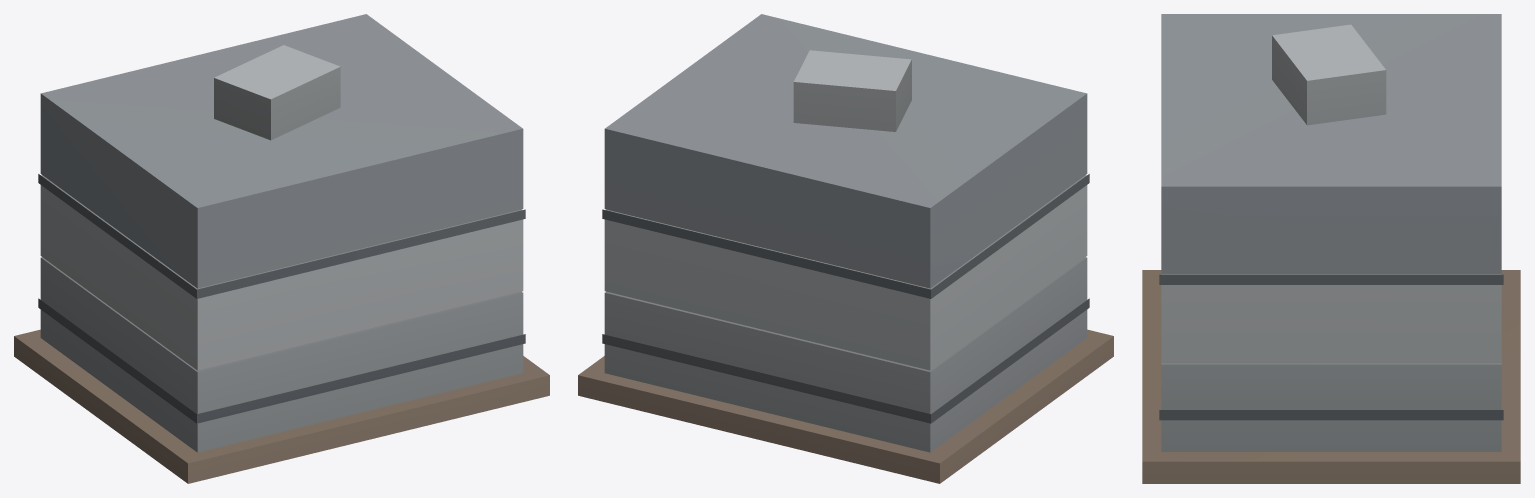
File: pallet.lod2.glb
The picture shows the model from 3 angles, left to right: view 1: azimuth 30°, elevation 25°; view 2: azimuth 150°, elevation 25°; view 3: azimuth 270°, elevation 25°; orthographic projection. The views are drawn at different scales.
Bounding box in the file's own units: 1.2 × 0.97 × 1.
